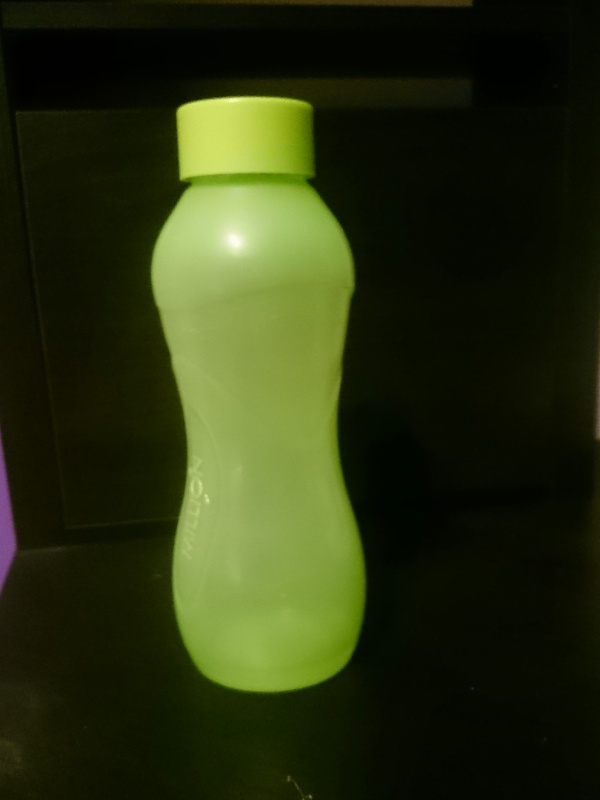my bottle: (150, 96, 368, 694)
